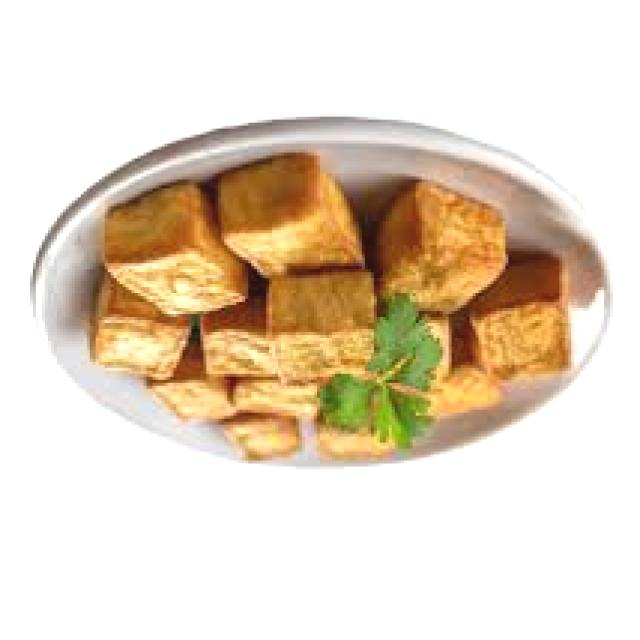tahu: (82, 160, 365, 343), (123, 329, 420, 482), (261, 272, 444, 418), (81, 266, 239, 428), (418, 258, 578, 398), (366, 194, 494, 328)
